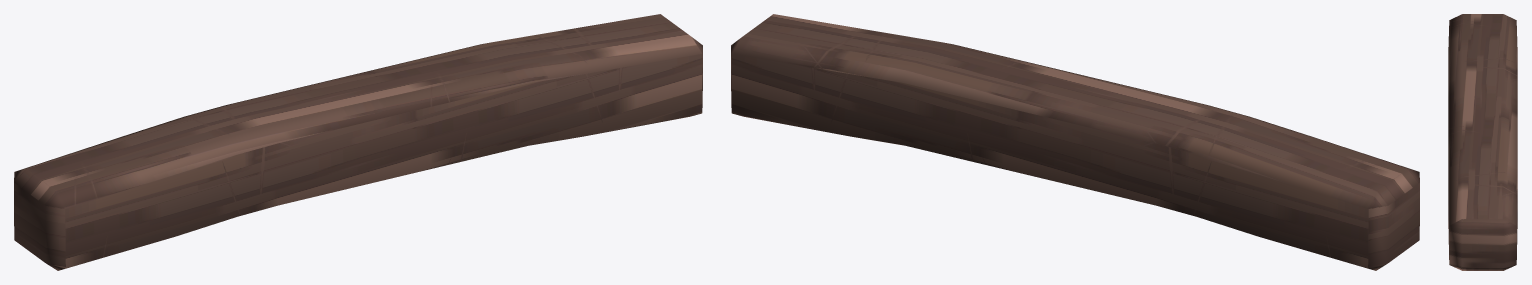
The model's file is SM_beam_02.glb.
3 views of the same model, side by side, from view 1: azimuth 30°, elevation 25°; view 2: azimuth 150°, elevation 25°; view 3: azimuth 270°, elevation 25° (orthographic). The views are drawn at different scales.
Parts seen in each view (by area): view 1: SM_beam_02; view 2: SM_beam_02; view 3: SM_beam_02.
Boxes of the visible parts, left/top/right/bottom form: SM_beam_02: left=14, top=14, right=702, bottom=270; SM_beam_02: left=731, top=14, right=1419, bottom=270; SM_beam_02: left=1448, top=14, right=1517, bottom=270.
Size of the model in its own units: 7.33 by 0.9987 by 1.01.
Materials: 1 (1 with a texture image).
